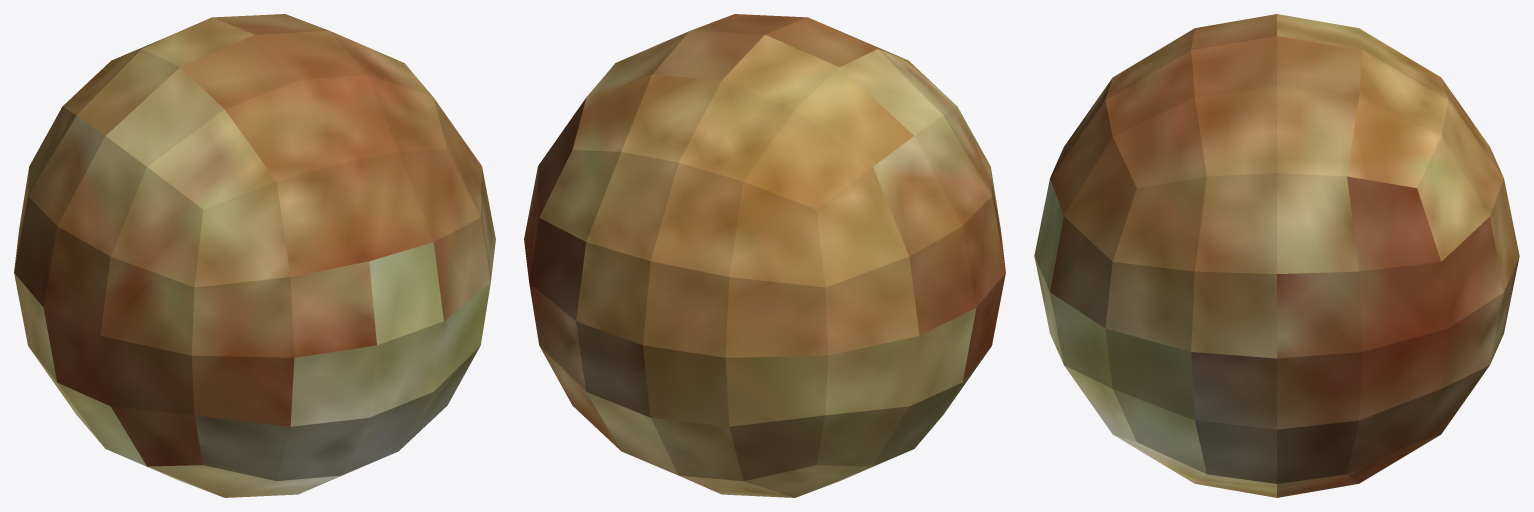
File: europa.glb
The picture shows the model from 3 angles, left to right: view 1: azimuth 30°, elevation 25°; view 2: azimuth 150°, elevation 25°; view 3: azimuth 270°, elevation 25°; orthographic projection.
Parts seen in each view (by area): view 1: Roundcube; view 2: Roundcube; view 3: Roundcube.
Boxes of the visible parts, left/top/right/bottom form: Roundcube: left=14, top=14, right=495, bottom=497; Roundcube: left=524, top=14, right=1005, bottom=497; Roundcube: left=1034, top=14, right=1519, bottom=497.
Size of the model in its own units: 1.2 by 1.2 by 1.2.
Materials: 1 (1 with a texture image).
